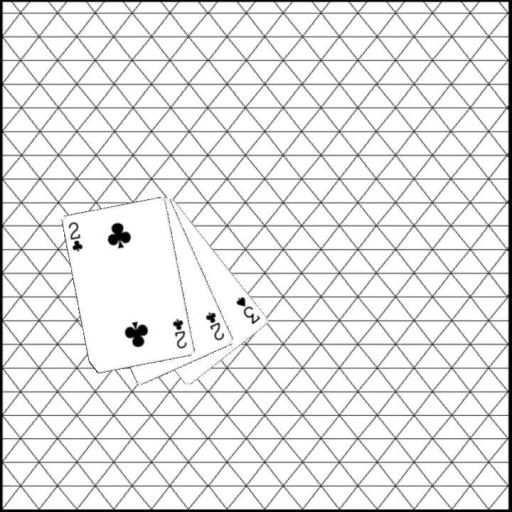2C: (203, 309, 226, 342), (66, 219, 85, 253), (170, 316, 188, 351)
3S: (233, 294, 262, 326)
